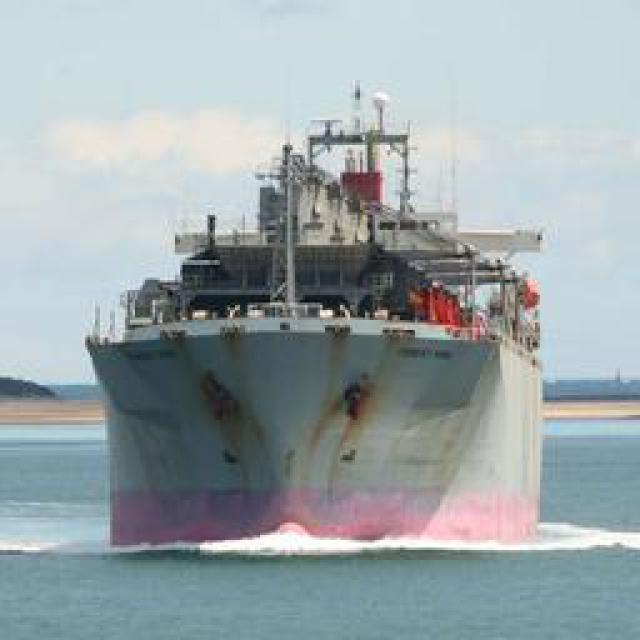Ship: (75, 86, 543, 551)
